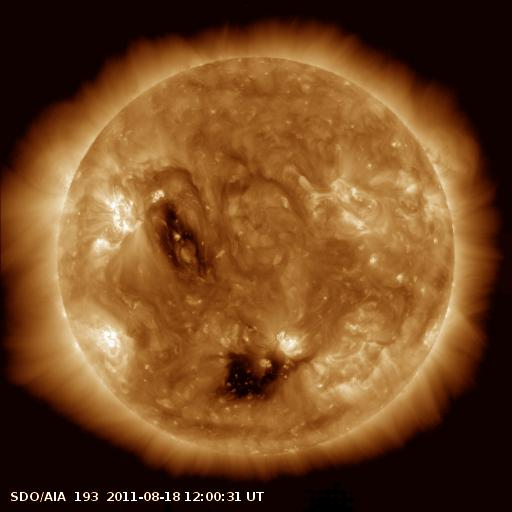coronal_hole: (160, 203, 208, 270), (219, 358, 287, 402)
